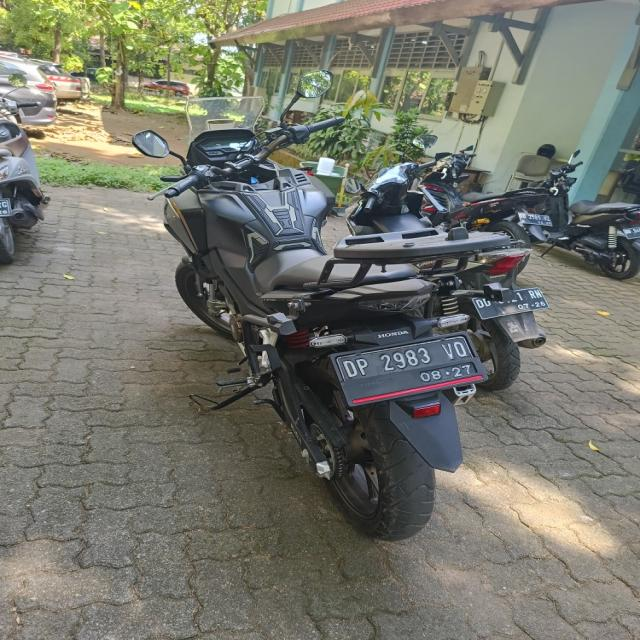plates: (333, 334, 497, 397)
